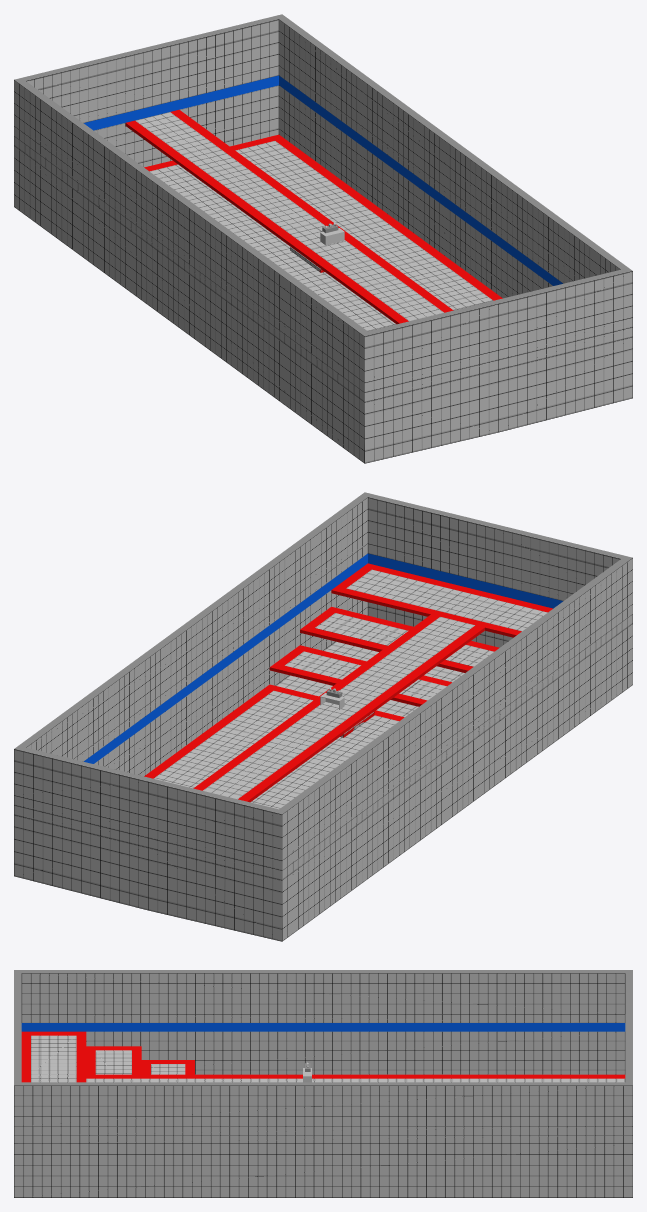
File: guanqia.FBX
3 views of the same model, one above another, from view 1: azimuth 30°, elevation 25°; view 2: azimuth 150°, elevation 25°; view 3: azimuth 270°, elevation 25° (orthographic). The views are drawn at different scales.
Parts seen in each view (by area): view 1: guanqia005, guanqia008; view 2: guanqia005, guanqia008; view 3: guanqia005, guanqia008.
Boxes of the visible parts, x1,y1,x2,y2 form: guanqia005: (14,14,632,463); guanqia008: (125,109,502,331); guanqia005: (14,492,632,941); guanqia008: (144,563,552,809); guanqia005: (14,970,632,1197); guanqia008: (21,1031,625,1082).
Size of the model in its own units: 2516 by 1154 by 5698.
